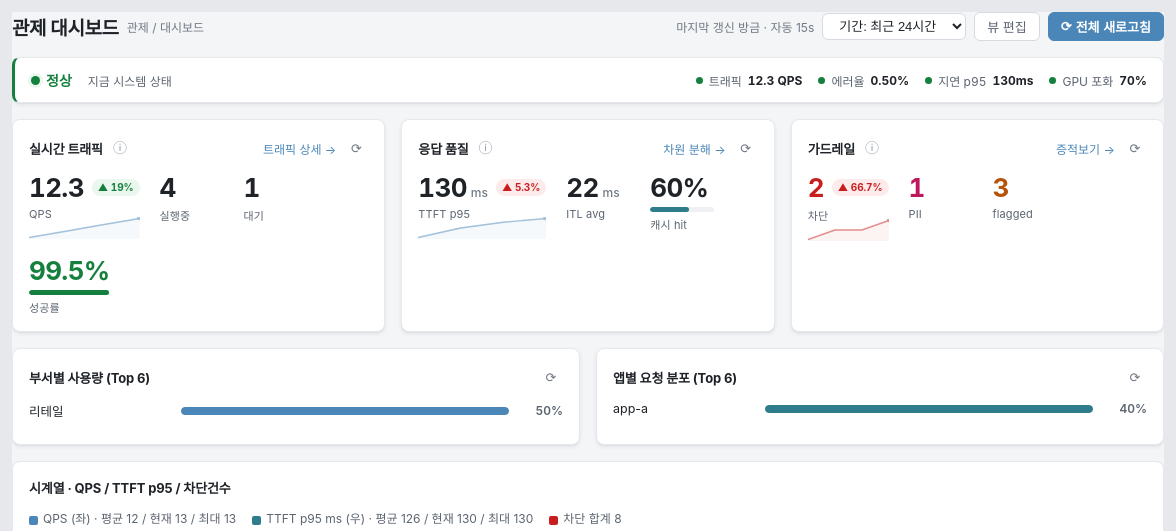
Test: Dashboard 커스텀 레이아웃 (IMP-40) › 경계: 맨 위 위젯의 '위로' 버튼은 비활성
expect the heading "실시간 트래픽" is shown: met, box left=29, top=138, right=103, bottom=158
Click the button "뷰 편집".
click(1007, 26)  # box left=974, top=12, right=1040, bottom=41
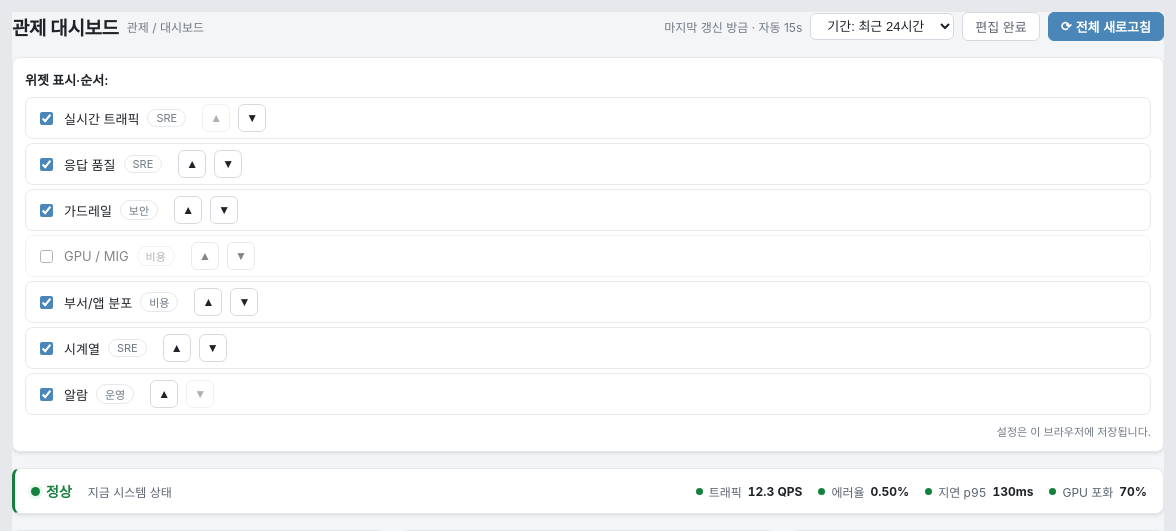
expect the button named "실시간 트래픽 위로" is disabled: met, box left=202, top=104, right=230, bottom=132
